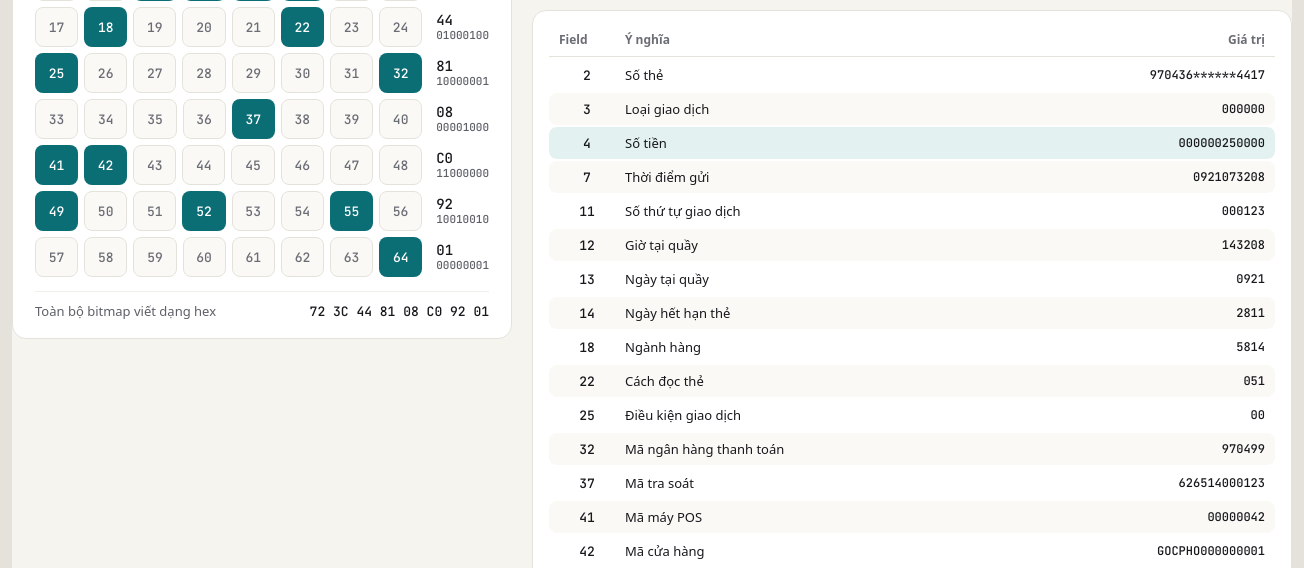
MessageLabScreen › selecting a bitmap cell or a list row drives the same selection __MCN_104_AC1
(page scrolled)
Click the button "37 Mã tra soát 626514000123": {"x": 660, "y": 483} [549, 467, 1275, 499]
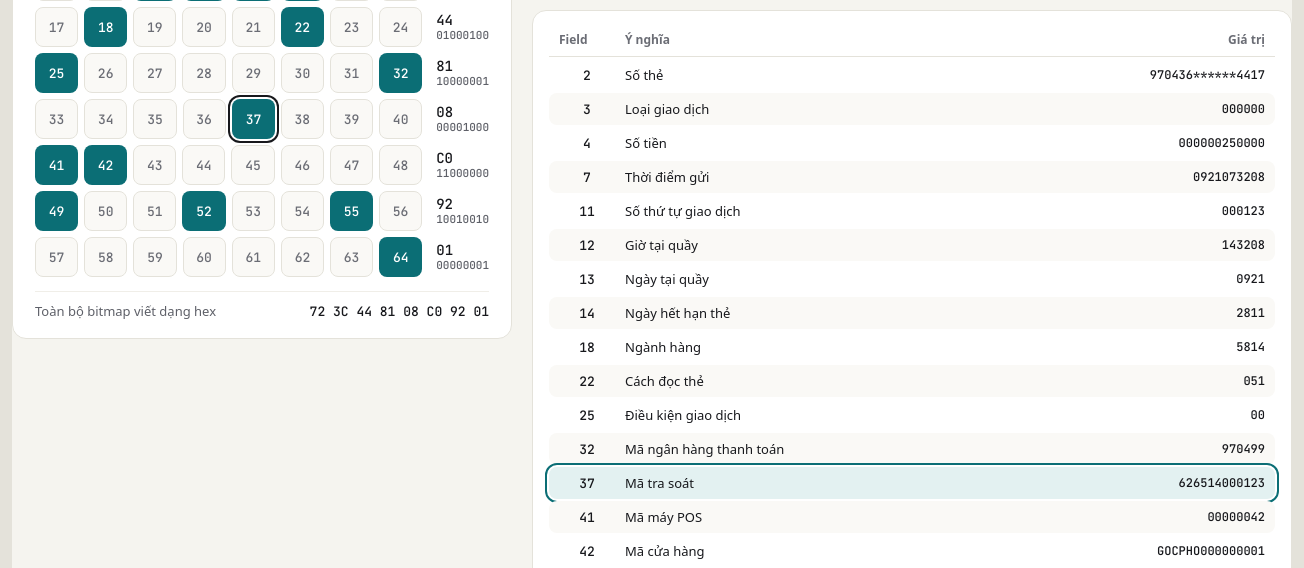
Click the button named "Bit 39, tắt": {"x": 352, "y": 119} [330, 99, 373, 139]
(page scrolled)
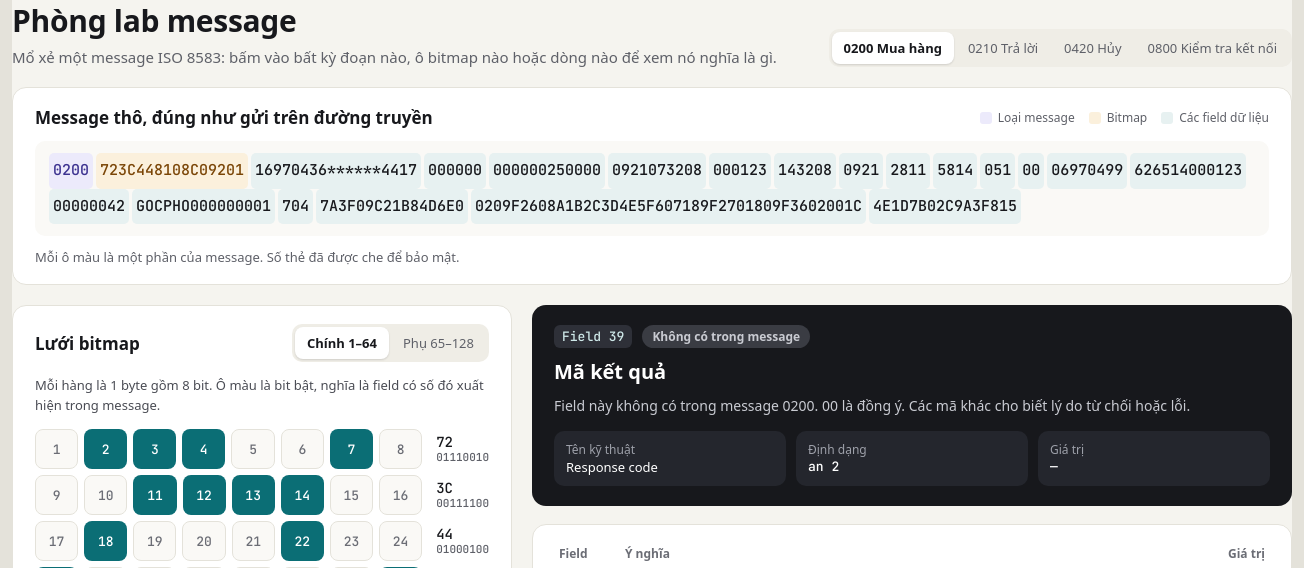
Expected: the text "Không có trong message" is shown, [642, 325, 810, 348]
